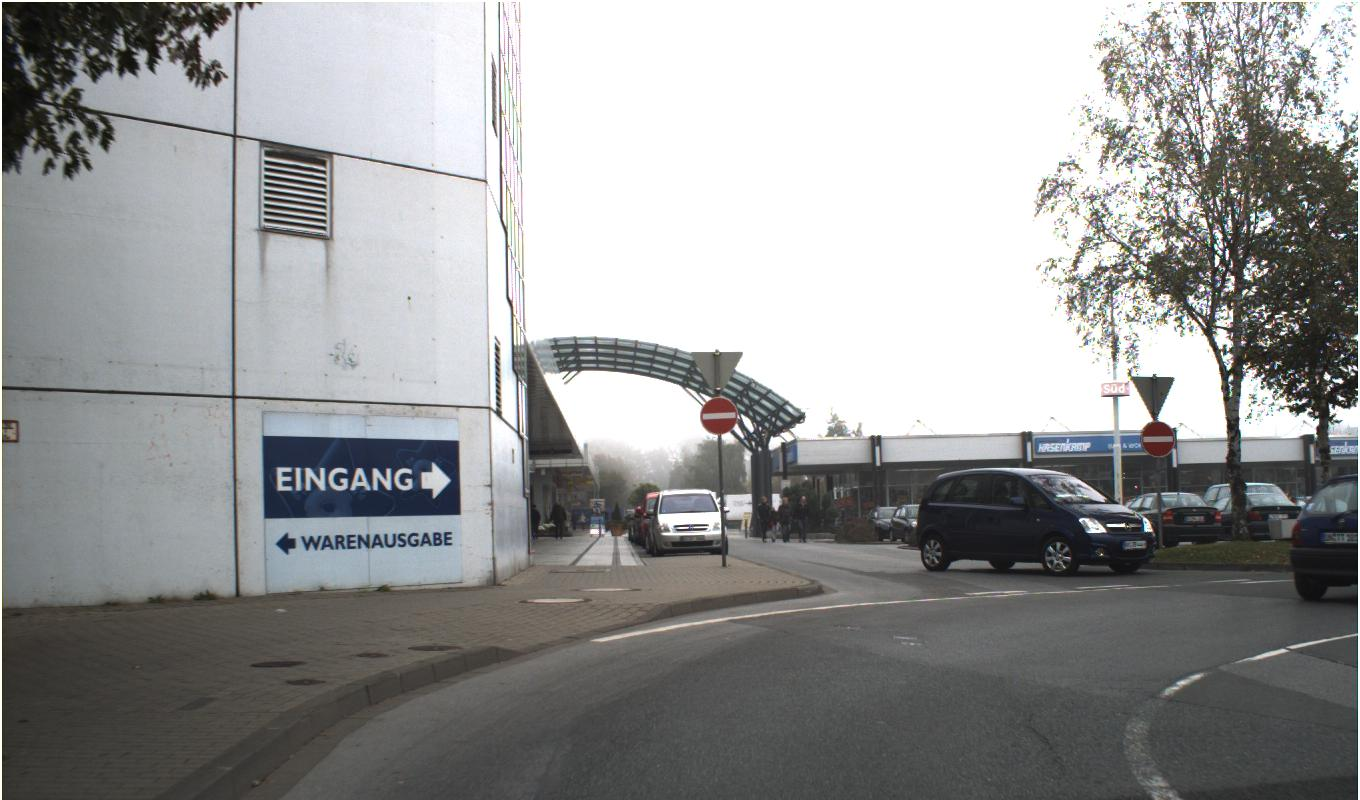sign: (699, 396, 738, 435), (1140, 420, 1176, 458)
